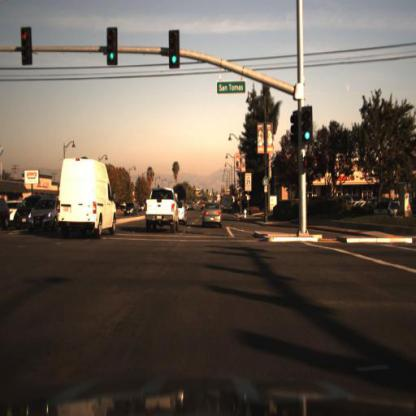car: (50, 150, 127, 254), (147, 185, 186, 235), (26, 192, 61, 238), (26, 193, 62, 236), (200, 197, 229, 237), (374, 196, 402, 217), (217, 192, 233, 215)
trafficLight-Green: (105, 28, 119, 72), (106, 38, 120, 70), (304, 109, 317, 141), (169, 33, 179, 65), (301, 124, 312, 151), (171, 50, 181, 73)
truck: (57, 156, 121, 240)
